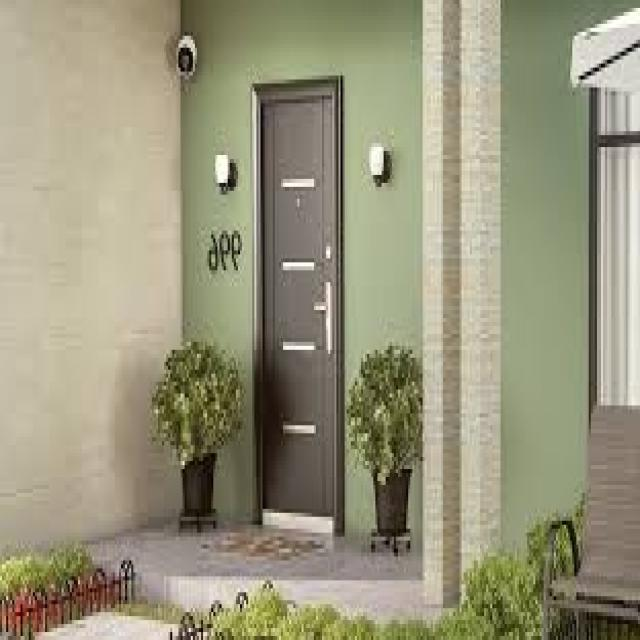door: (258, 75, 342, 532)
